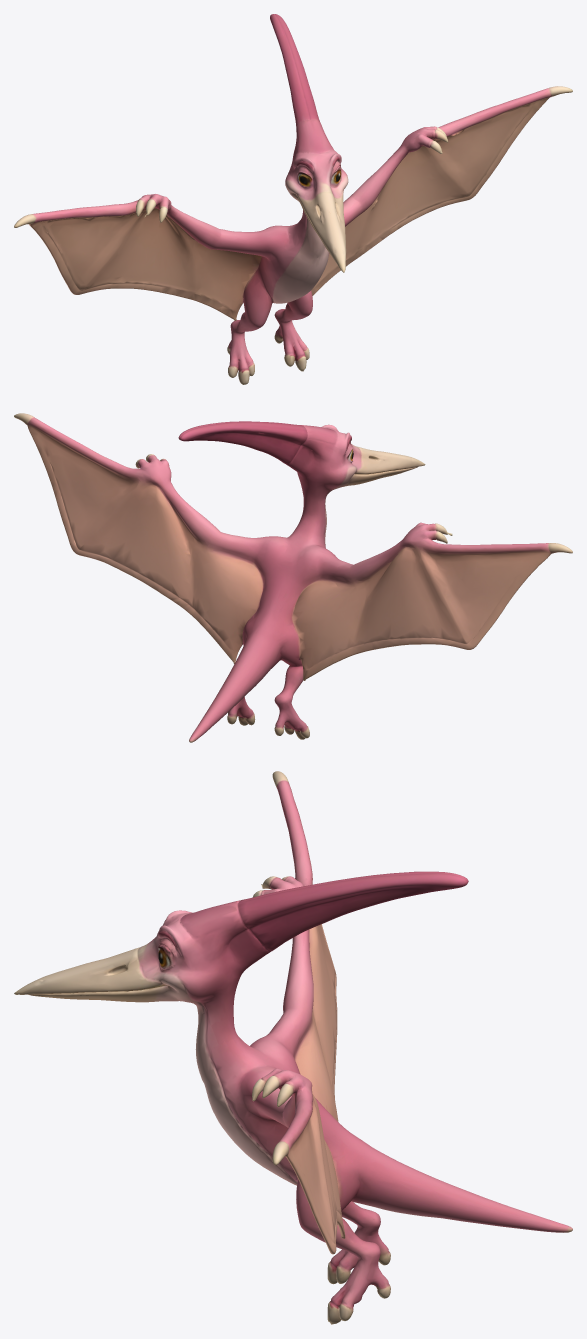
Rendered from pteranodon-parts.glb.
3 views of the same model, one above another, from view 1: azimuth 30°, elevation 25°; view 2: azimuth 150°, elevation 25°; view 3: azimuth 270°, elevation 25° (orthographic). The views are drawn at different scales.
Visible parts, largest first — view 1: tripo_part_0, tripo_part_1, tripo_part_2, tripo_part_3, tripo_part_6, tripo_part_5, tripo_part_4, tripo_part_8, tripo_part_7; view 2: tripo_part_1, tripo_part_0, tripo_part_3, tripo_part_2, tripo_part_4, tripo_part_6, tripo_part_5, tripo_part_8, tripo_part_7; view 3: tripo_part_3, tripo_part_2, tripo_part_0, tripo_part_1, tripo_part_8, tripo_part_7, tripo_part_6, tripo_part_4, tripo_part_5.
Boxes of the visible parts, x1,y1,x2,y2 form: tripo_part_0: (14, 200, 261, 320); tripo_part_1: (311, 86, 572, 295); tripo_part_2: (270, 14, 348, 201); tripo_part_3: (254, 210, 329, 303); tripo_part_6: (136, 194, 288, 259); tripo_part_5: (227, 272, 273, 384); tripo_part_4: (343, 126, 448, 226); tripo_part_8: (298, 191, 346, 272); tripo_part_7: (274, 290, 312, 371); tripo_part_1: (14, 413, 263, 663); tripo_part_0: (292, 537, 572, 680); tripo_part_3: (189, 472, 334, 742); tripo_part_2: (178, 421, 361, 489); tripo_part_4: (135, 454, 287, 576); tripo_part_6: (297, 522, 452, 587); tripo_part_5: (274, 623, 309, 739); tripo_part_8: (341, 446, 425, 487); tripo_part_7: (227, 616, 255, 725); tripo_part_3: (191, 976, 572, 1232); tripo_part_2: (137, 871, 468, 1002); tripo_part_0: (272, 771, 338, 1121); tripo_part_1: (272, 1083, 345, 1254); tripo_part_8: (14, 947, 180, 1002); tripo_part_7: (296, 1155, 390, 1324); tripo_part_6: (250, 876, 313, 1073); tripo_part_4: (239, 1065, 312, 1127); tripo_part_5: (327, 1201, 390, 1284).
Size of the model in its own units: 0.9865 by 0.5423 by 0.5958.
1 material, 1 textured.
